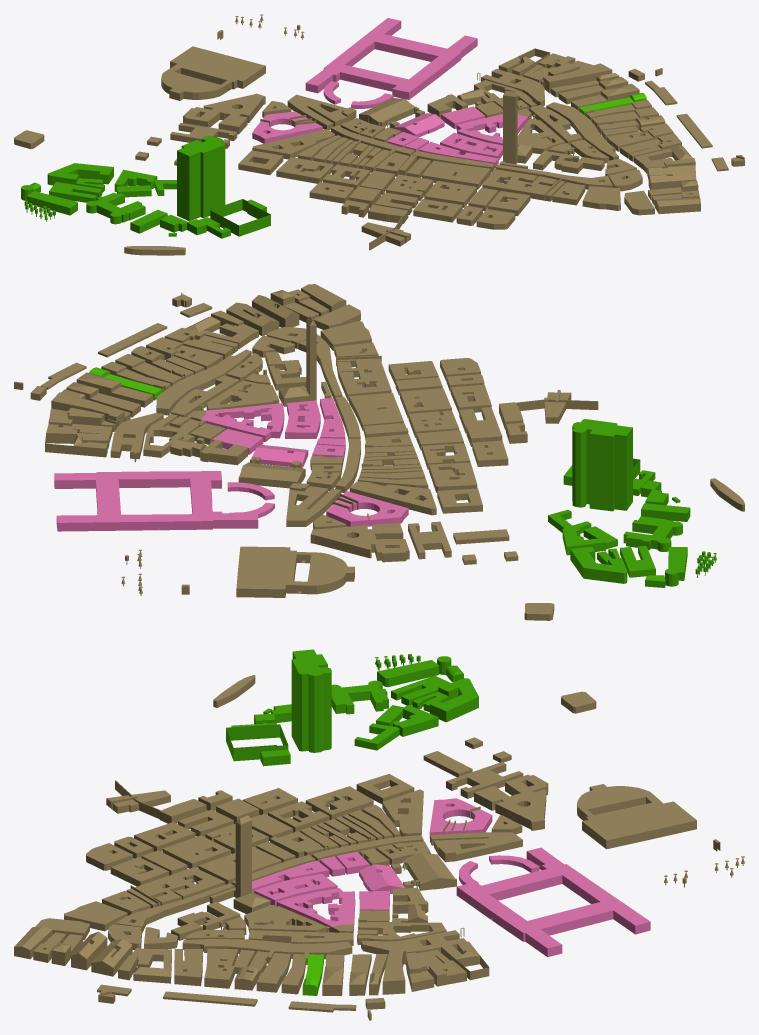
File: GamlaStanBuildings.fbx
3 renders of one model, top to bottom at view 1: azimuth 30°, elevation 25°; view 2: azimuth 150°, elevation 25°; view 3: azimuth 270°, elevation 25°, orthographic. The views are drawn at different scales.
Parts seen in each view (by area): view 1: polySurface326, polySurface327, polySurface245, polySurface339, polySurface320, polySurface294, polySurface274, polySurface307, polySurface315, polySurface1061, polySurface279, polySurface13 (+58 smaller); view 2: polySurface326, polySurface245, polySurface327, polySurface339, polySurface274, polySurface320, polySurface263, polySurface1061, polySurface275, polySurface279, polySurface13, polySurface307 (+53 smaller); view 3: polySurface326, polySurface327, polySurface245, polySurface339, polySurface320, polySurface1061, polySurface294, polySurface279, polySurface263, polySurface274, polySurface251, polySurface324 (+53 smaller).
Boxes of the visible parts, bbox=[...] form: polySurface326: bbox=[305, 18, 477, 99]; polySurface327: bbox=[161, 46, 265, 100]; polySurface245: bbox=[177, 135, 225, 221]; polySurface339: bbox=[183, 93, 265, 134]; polySurface320: bbox=[482, 169, 565, 201]; polySurface294: bbox=[503, 90, 532, 164]; polySurface274: bbox=[252, 111, 322, 143]; polySurface307: bbox=[422, 160, 490, 189]; polySurface315: bbox=[210, 199, 270, 236]; polySurface1061: bbox=[546, 102, 618, 160]; polySurface279: bbox=[287, 94, 347, 130]; polySurface13: bbox=[86, 192, 145, 224]; polySurface326: bbox=[54, 471, 258, 531]; polySurface245: bbox=[572, 419, 632, 511]; polySurface327: bbox=[236, 546, 354, 597]; polySurface339: bbox=[310, 523, 409, 562]; polySurface274: bbox=[326, 491, 408, 526]; polySurface320: bbox=[337, 355, 391, 400]; polySurface263: bbox=[199, 403, 284, 438]; polySurface1061: bbox=[156, 349, 251, 415]; polySurface275: bbox=[349, 481, 436, 515]; polySurface279: bbox=[286, 486, 341, 526]; polySurface13: bbox=[623, 516, 682, 551]; polySurface307: bbox=[349, 392, 403, 431]; polySurface326: bbox=[456, 847, 650, 957]; polySurface327: bbox=[577, 784, 696, 849]; polySurface245: bbox=[291, 649, 331, 752]; polySurface339: bbox=[474, 774, 548, 830]; polySurface320: bbox=[126, 867, 225, 908]; polySurface1061: bbox=[182, 939, 352, 959]; polySurface294: bbox=[233, 815, 270, 913]; polySurface279: bbox=[430, 832, 522, 861]; polySurface263: bbox=[276, 888, 355, 932]; polySurface274: bbox=[429, 798, 492, 838]; polySurface251: bbox=[118, 948, 171, 983]; polySurface324: bbox=[244, 905, 327, 932].
Size of the model in its own units: 866 by 96 by 747.
